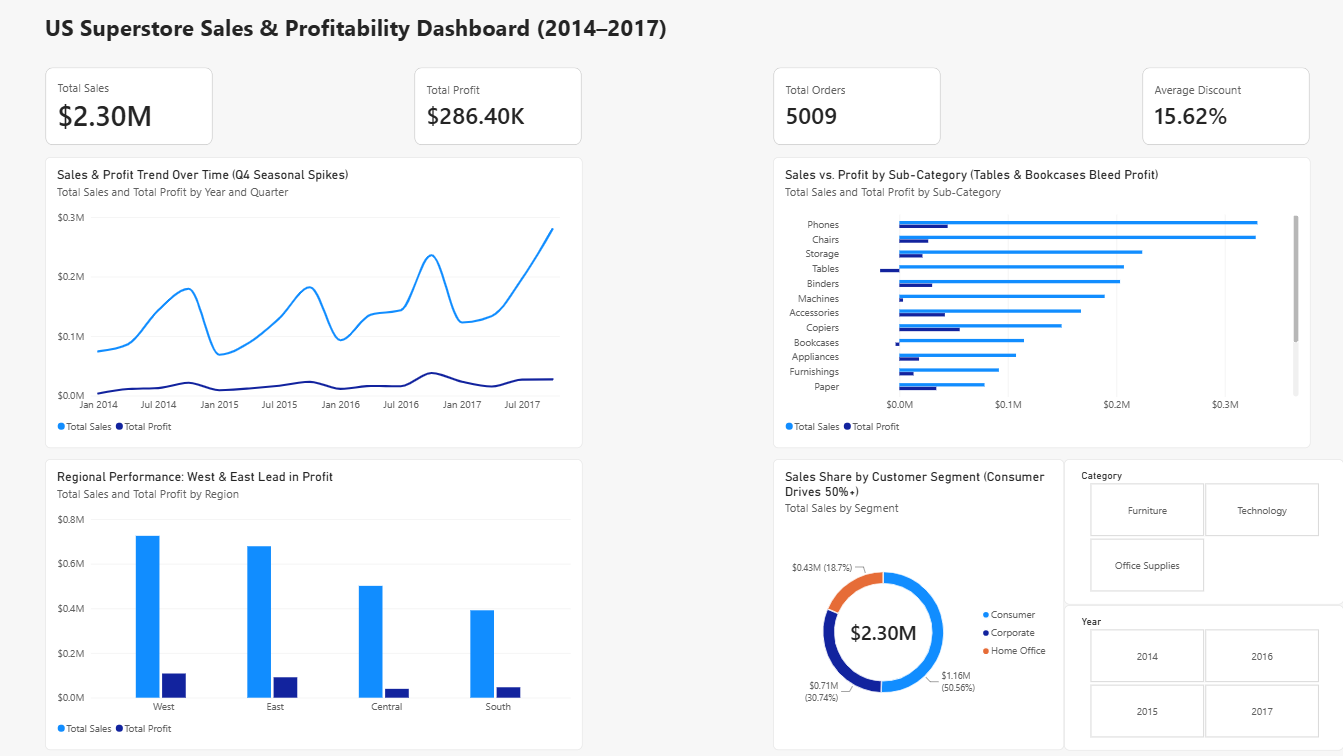

Layout of this report page (visuals, bound fields, positions):
{"tool":"powerbi","page":{"name":"Sales Overview","canvas":[1920,1080],"ordinal":0},"visuals":[{"type":"cardVisual","fields":{"Data":["Sample - Superstore.Total Sales"]},"box":[64,96,240,112],"z":0},{"type":"cardVisual","fields":{"Data":["Sample - Superstore.Total Profit"]},"box":[592,96,240,112],"z":1000},{"type":"cardVisual","fields":{"Data":["Sample - Superstore.Average Discount"]},"box":[1632,96,240,112],"z":2000},{"type":"cardVisual","fields":{"Data":["Sample - Superstore.Total Orders"]},"box":[1104,96,240,112],"z":3000},{"type":"lineChart","title":"Sales & Profit Trend Over Time (Q4 Seasonal Spikes)","fields":{"Category":["Sample - Superstore.Order Date.Variation.Date Hierarchy.Year","Sample - Superstore.Order Date.Variation.Date Hierarchy.Quarter","Sample - Superstore.Order Date.Variation.Date Hierarchy.Month"],"Y":["Sample - Superstore.Total Sales","Sample - Superstore.Total Profit"]},"box":[64,224,768,416],"z":4000},{"type":"clusteredBarChart","title":"Sales vs. Profit by Sub-Category (Tables & Bookcases Bleed Profit)","fields":{"Category":["Sample - Superstore.Sub-Category"],"Y":["Sample - Superstore.Total Sales","Sample - Superstore.Total Profit"]},"box":[1104,224,768,416],"z":5000},{"type":"clusteredColumnChart","title":"Regional Performance: West & East Lead in Profit","fields":{"Category":["Sample - Superstore.Region"],"Y":["Sample - Superstore.Total Sales","Sample - Superstore.Total Profit"]},"box":[64,656,768,416],"z":6000},{"type":"donutChart","title":"Sales Share by Customer Segment (Consumer Drives 50%+)","fields":{"Category":["Sample - Superstore.Segment"],"Y":["Sample - Superstore.Total Sales"]},"box":[1104,656,416,416],"z":7000},{"type":"slicer","fields":{"Values":["Sample - Superstore.Category"]},"box":[1520,656,400,208],"z":7001},{"type":"slicer","fields":{"Values":["Sample - Superstore.Order Date.Variation.Date Hierarchy.Year"]},"box":[1520,864,400,208],"z":7002},{"type":"textbox","box":[64,16,896,64],"z":7003}]}

Visuals, with their boxes in screenshot pixels (x1, y1, x2, y2), scaled from the page's 1920x1080 canvas onto the 1343x756 screenshot:
cardVisual - Sample - Superstore.Total Sales: 45:67:213:146
cardVisual - Sample - Superstore.Total Profit: 414:67:582:146
cardVisual - Sample - Superstore.Average Discount: 1142:67:1309:146
cardVisual - Sample - Superstore.Total Orders: 772:67:940:146
"Sales & Profit Trend Over Time (Q4 Seasonal Spikes)" lineChart: 45:157:582:448
"Sales vs. Profit by Sub-Category (Tables & Bookcases Bleed Profit)" clusteredBarChart: 772:157:1309:448
"Regional Performance: West & East Lead in Profit" clusteredColumnChart: 45:459:582:750
"Sales Share by Customer Segment (Consumer Drives 50%+)" donutChart: 772:459:1063:750
slicer - Sample - Superstore.Category: 1063:459:1342:605
slicer - Sample - Superstore.Order Date.Variation.Date Hierarchy.Year: 1063:605:1342:750
textbox: 45:11:672:56
